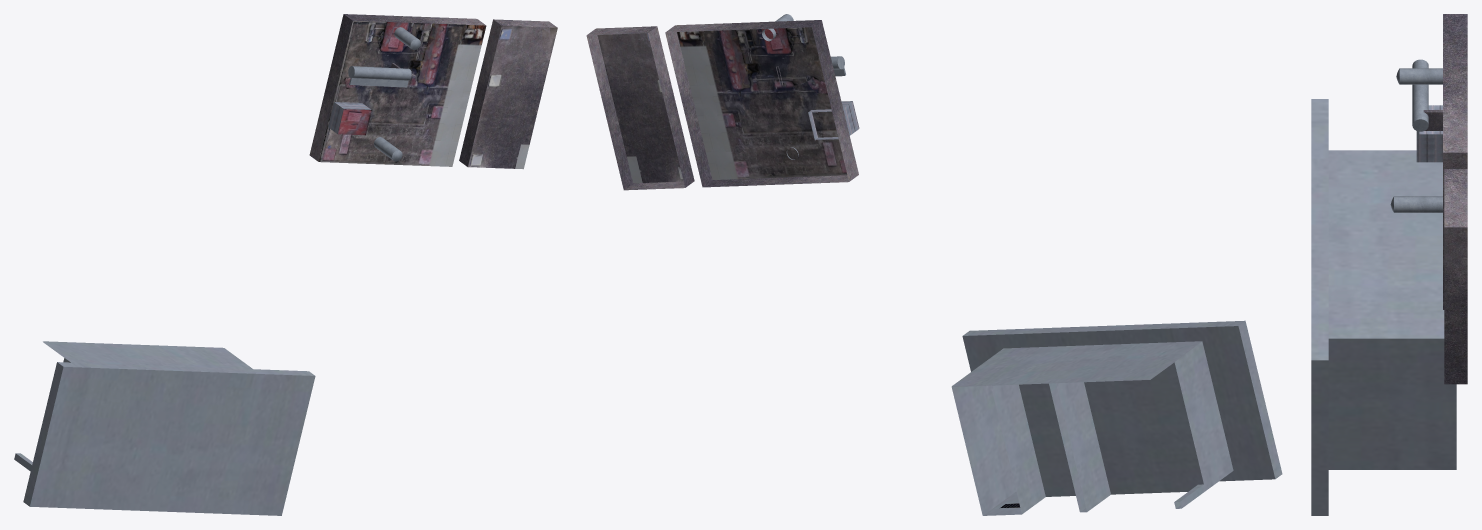
The model's file is building_p5_07_02.fbx.
The picture shows the model from 3 angles, left to right: view 1: azimuth 30°, elevation 25°; view 2: azimuth 150°, elevation 25°; view 3: azimuth 270°, elevation 25°; orthographic projection. The views are drawn at different scales.
Parts seen in each view (by area): view 1: Building_P5_07_02; view 2: Building_P5_07_02; view 3: Building_P5_07_02.
Part boxes in pixels (x1,y1,x2,y2): Building_P5_07_02: (14, 14, 557, 515); Building_P5_07_02: (586, 14, 1282, 515); Building_P5_07_02: (1311, 14, 1467, 515).
Bounding box in the file's own units: 5529 × 3938 × 962.
